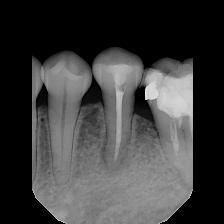apical_lesion: (91, 48, 144, 186)
